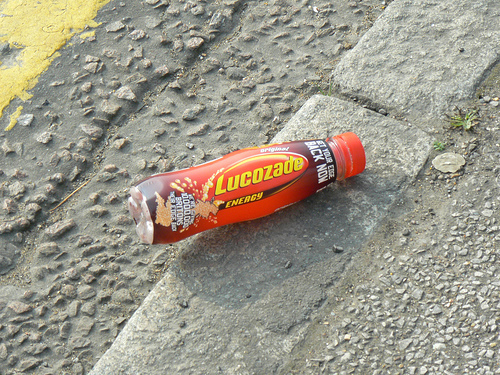litter: (129, 131, 366, 246)
